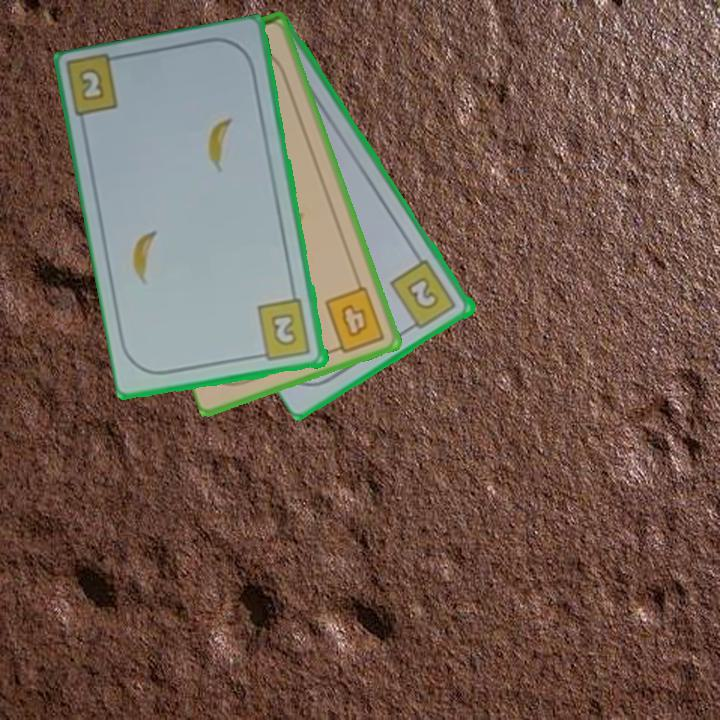2b: (387, 256, 460, 334), (253, 296, 314, 364), (75, 64, 108, 105)
4b: (321, 283, 388, 356)
